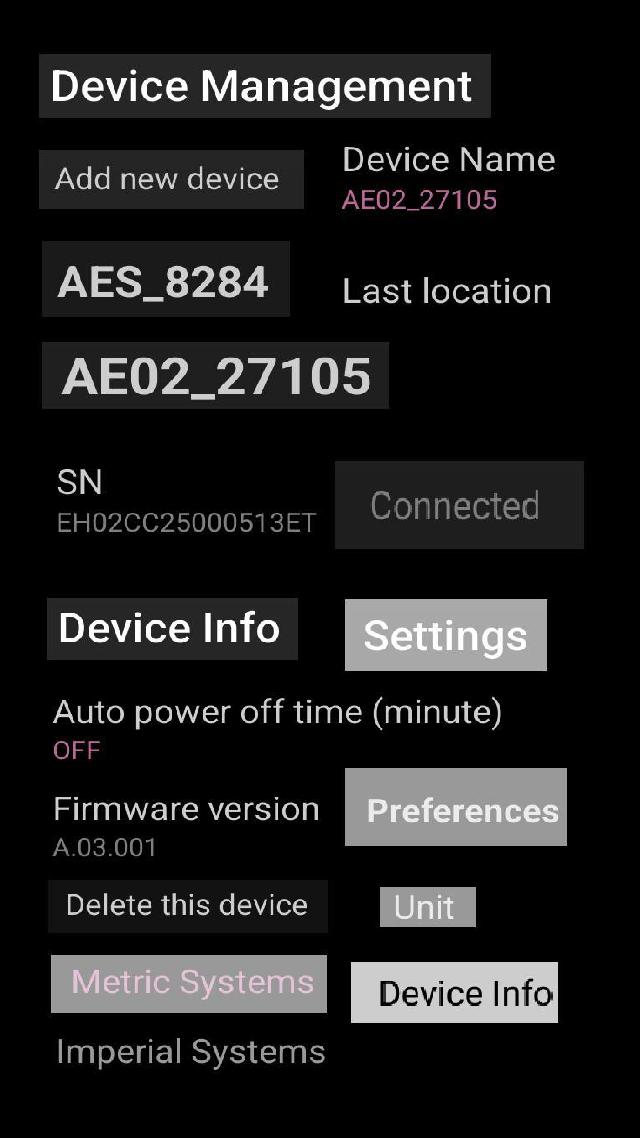Text: (44, 66, 480, 112), (45, 693, 505, 733), (60, 354, 374, 403), (48, 788, 322, 827), (51, 258, 275, 305), (52, 1034, 328, 1072), (46, 608, 281, 650), (48, 504, 321, 540), (68, 963, 316, 1001), (363, 483, 548, 532), (337, 272, 558, 310), (338, 141, 558, 179), (50, 164, 282, 200), (360, 616, 536, 662), (58, 889, 312, 920), (362, 793, 562, 831), (370, 974, 558, 1007), (337, 184, 503, 218), (49, 835, 162, 859), (388, 890, 460, 923), (46, 464, 108, 500), (46, 738, 104, 763)
